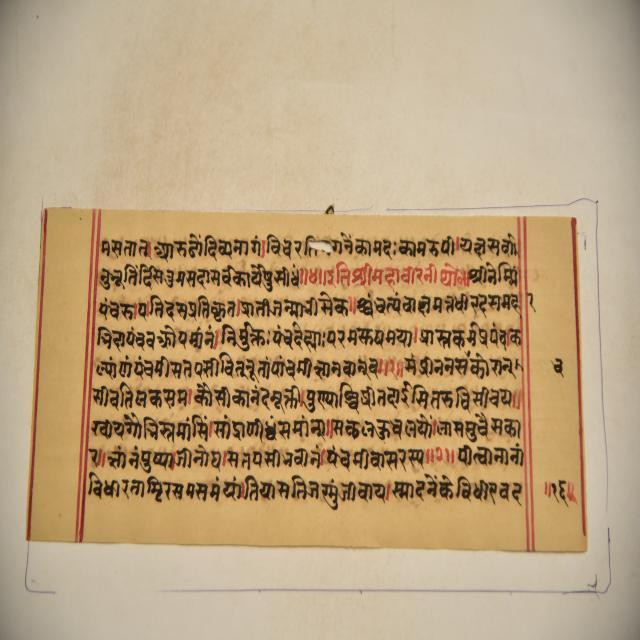text_paragraph: (26, 208, 589, 557)
